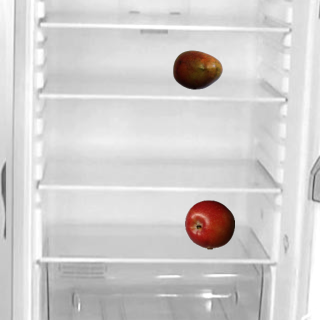Apple Braeburn: (184, 199, 234, 249)
Mango Red: (172, 44, 222, 94)
